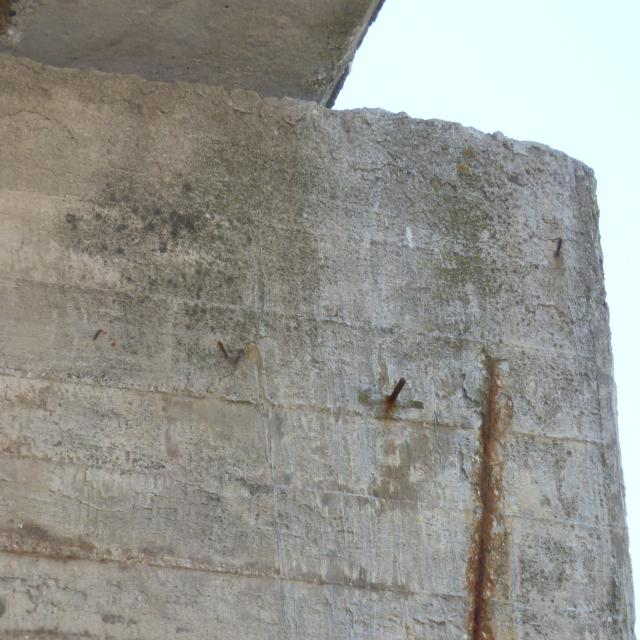corrosion: (452, 338, 517, 640), (212, 328, 272, 372), (379, 368, 414, 434), (549, 228, 570, 269)
